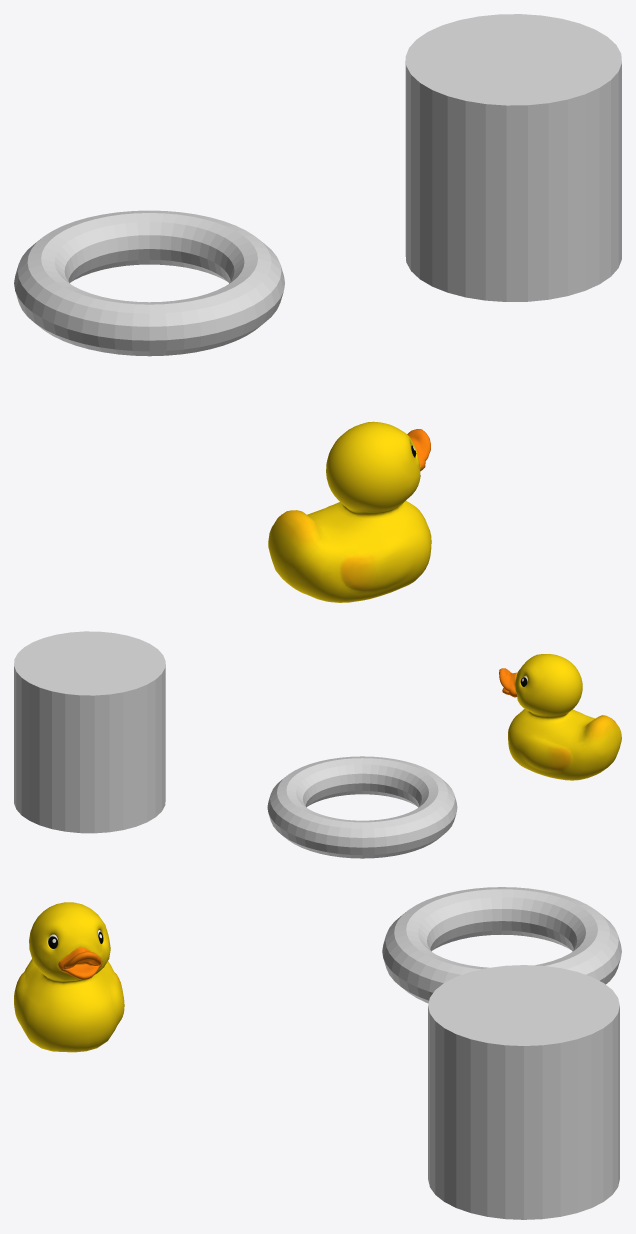
Rendered from Duck3.gltf.
The picture shows the model from 3 angles, top to bottom: view 1: azimuth 30°, elevation 25°; view 2: azimuth 150°, elevation 25°; view 3: azimuth 270°, elevation 25°; orthographic projection. The views are drawn at different scales.
Visible parts, largest first — view 1: Cylinder, Torus, LOD3spShape; view 2: Cylinder, Torus, LOD3spShape; view 3: Cylinder, Torus, LOD3spShape.
Boxes of the visible parts, <box> form: Cylinder: <box>405,14,621,301</box>; Torus: <box>14,210,284,356</box>; LOD3spShape: <box>268,421,431,602</box>; Cylinder: <box>14,631,165,833</box>; Torus: <box>267,756,457,858</box>; LOD3spShape: <box>499,654,621,780</box>; Cylinder: <box>428,965,619,1219</box>; Torus: <box>382,887,621,1003</box>; LOD3spShape: <box>14,902,124,1052</box>.
Size of the model in its own units: 6.26 by 2.37 by 6.34.
2 materials, 1 textured.
